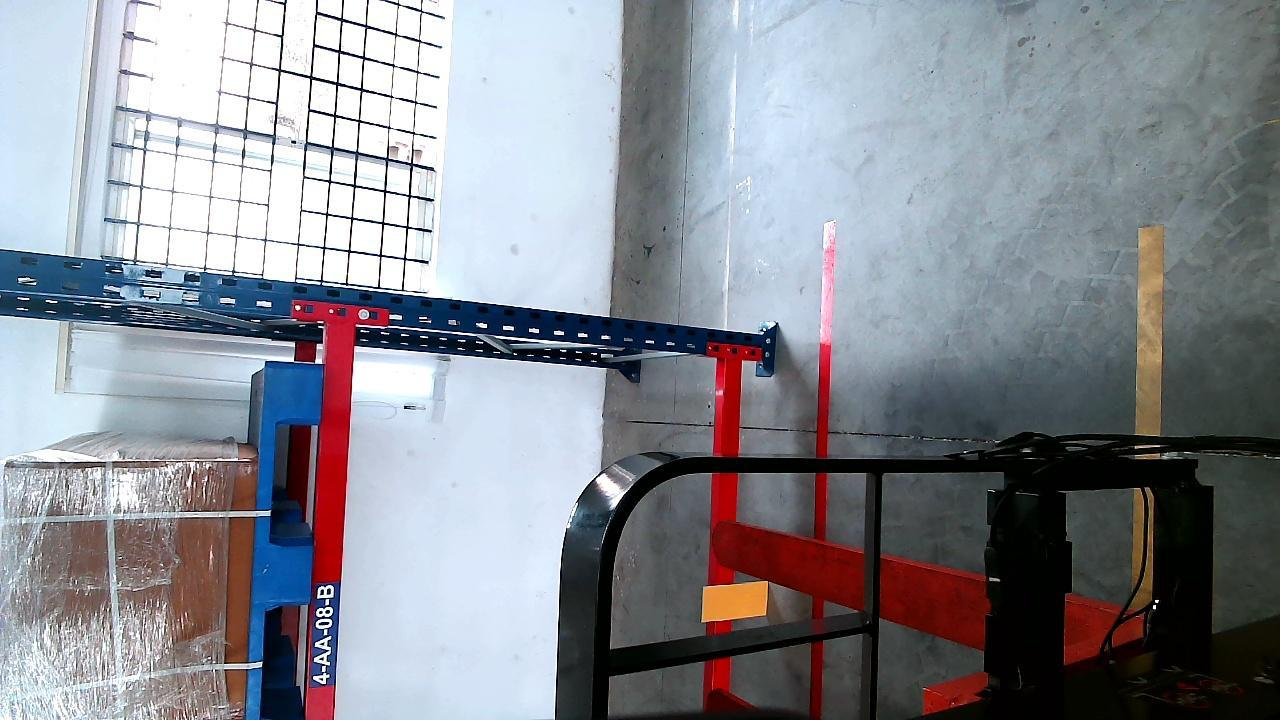red_line: (805, 224, 836, 718)
yellow_line: (1137, 222, 1163, 439)
